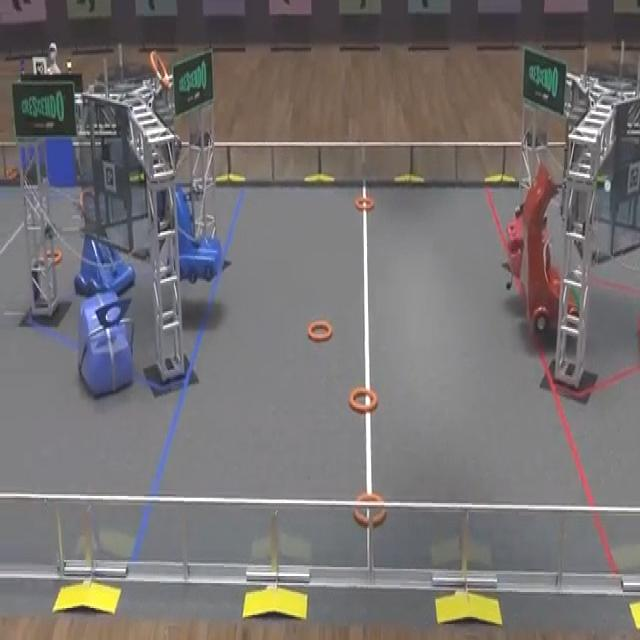notes: (352, 493, 386, 527), (348, 385, 378, 413), (307, 319, 334, 345), (354, 196, 376, 212)
